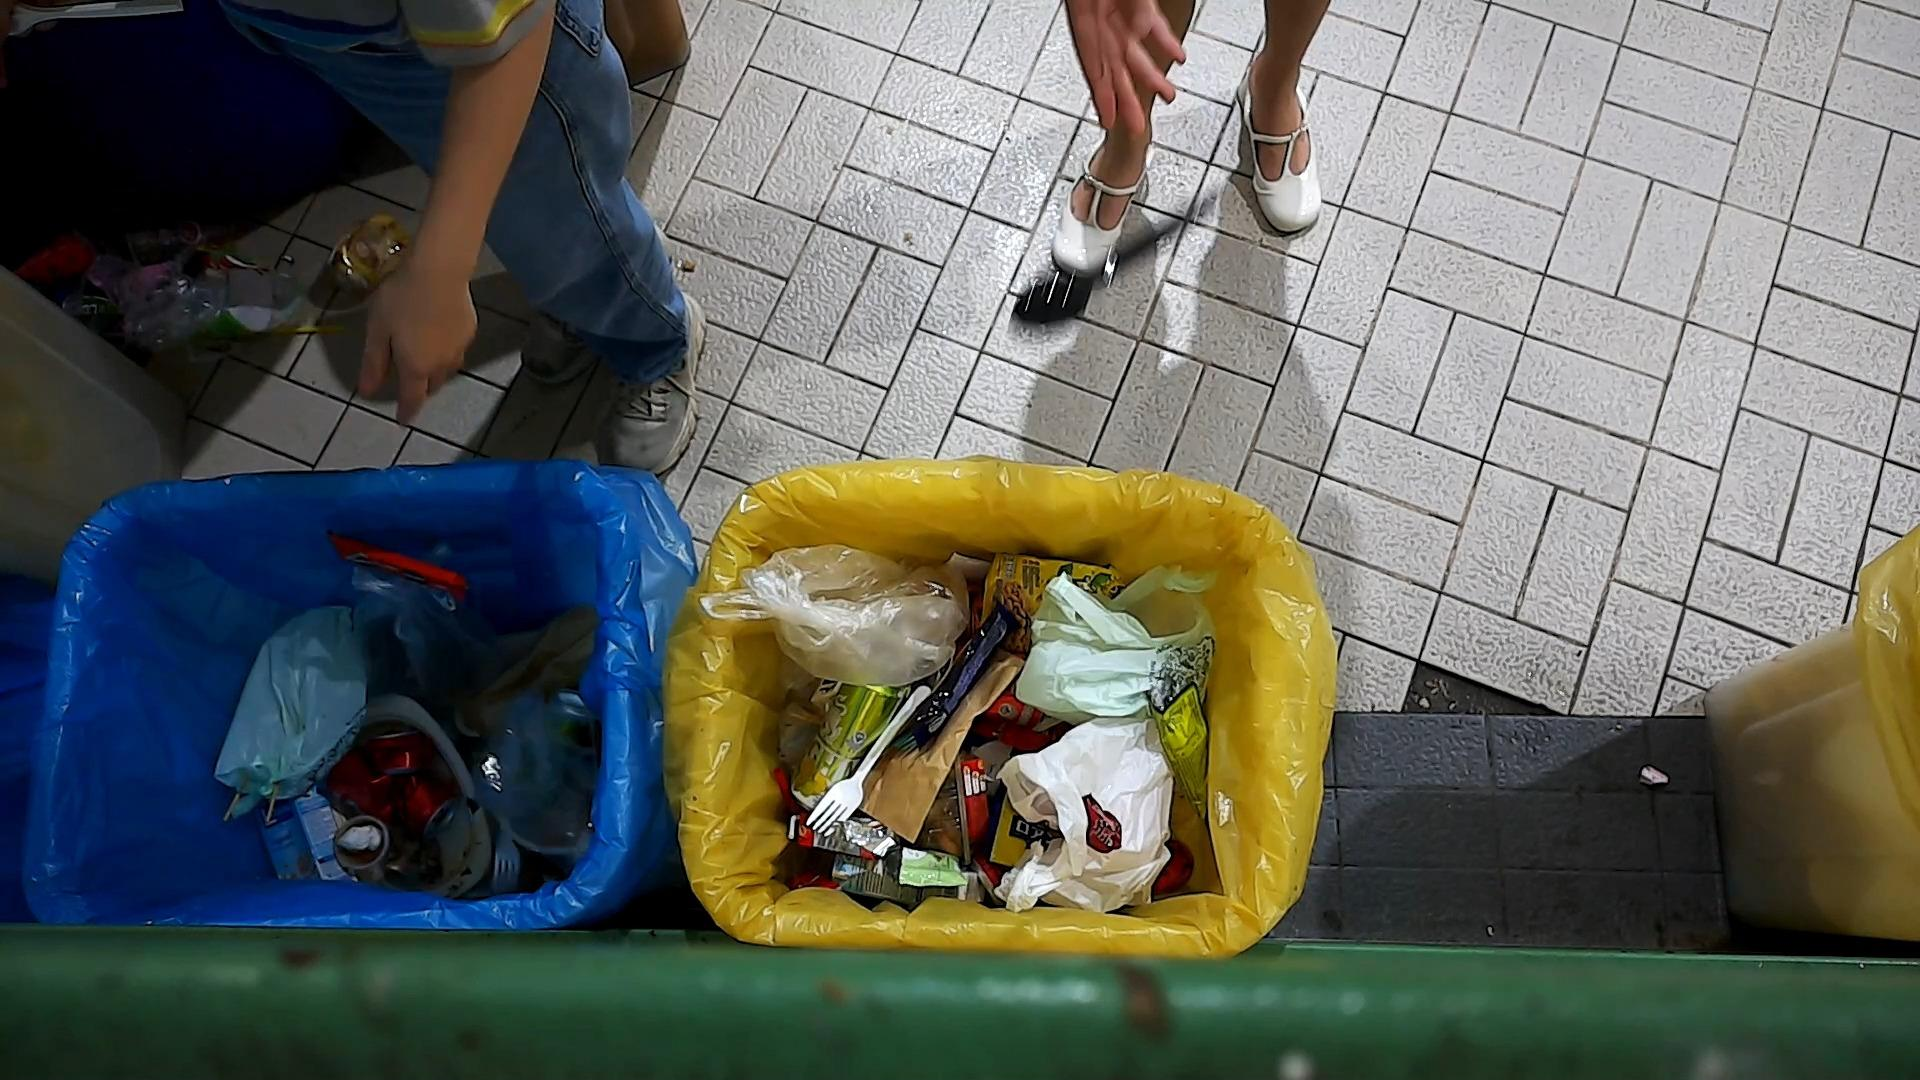can: (794, 667, 922, 811), (332, 727, 456, 840), (364, 728, 439, 779)
dirty food container: (328, 815, 394, 877)
filled plastic bag: (720, 525, 973, 669), (210, 599, 365, 818)
milk carton: (268, 791, 367, 884), (832, 847, 976, 902)
paper bag: (857, 645, 1022, 845), (480, 605, 596, 704)
plastic bag: (1033, 568, 1222, 765), (1011, 717, 1183, 916)
plastic cutlery: (1010, 200, 1215, 328), (804, 686, 932, 836), (0, 0, 178, 53), (489, 764, 520, 898)
snack packaging: (973, 551, 1122, 655), (913, 599, 1018, 745), (1150, 671, 1212, 825), (322, 530, 468, 591), (844, 823, 968, 893)
